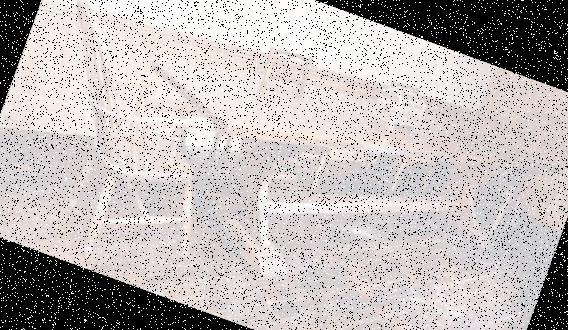Mesa: (89, 15, 565, 329)
Silla: (0, 0, 260, 290), (216, 36, 359, 223), (431, 85, 567, 250)
